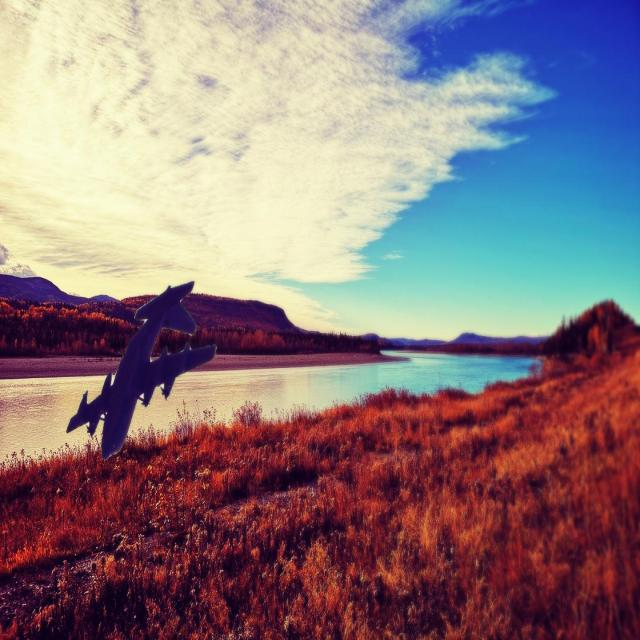airplane: (65, 280, 217, 460)
